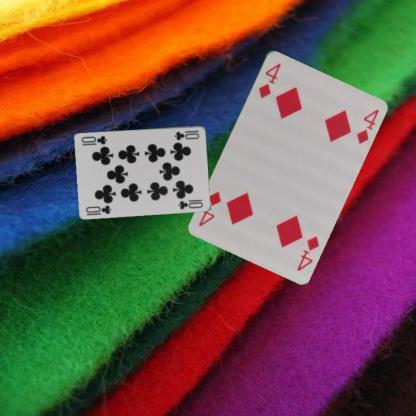10c: (172, 128, 201, 142), (84, 203, 112, 214)
4d: (255, 60, 282, 99), (294, 232, 320, 272)
